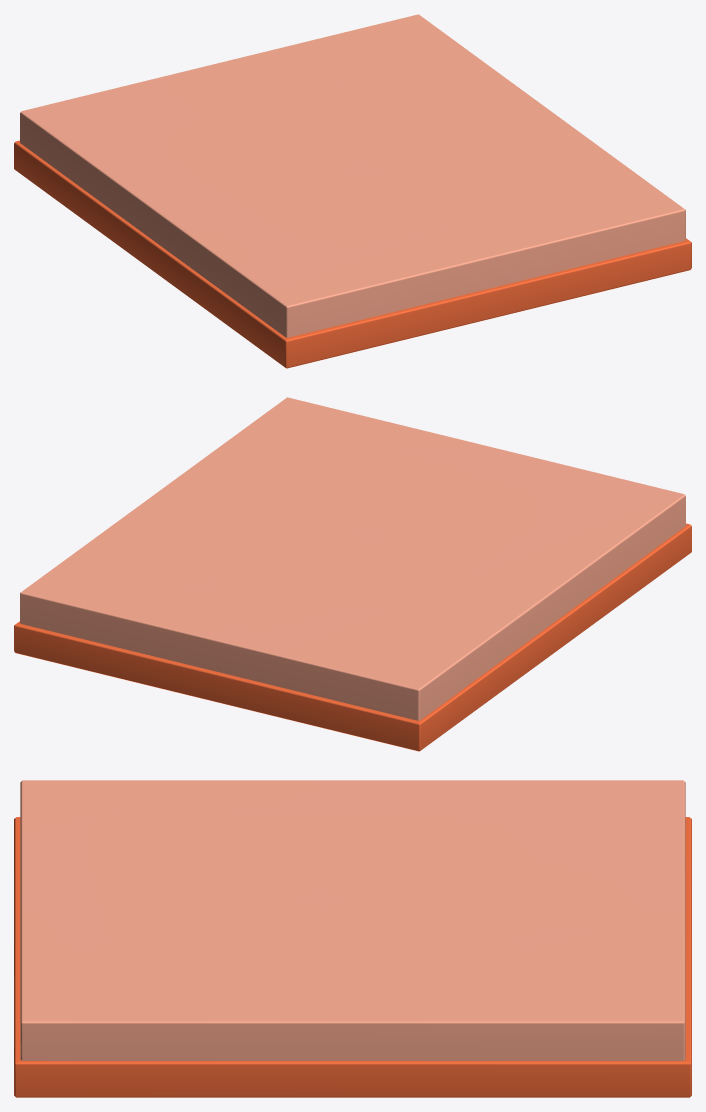
File: Store_5_Base_1.glb
3 renders of one model, top to bottom at view 1: azimuth 30°, elevation 25°; view 2: azimuth 150°, elevation 25°; view 3: azimuth 270°, elevation 25°, orthographic. The views are drawn at different scales.
Visible parts, largest first — view 1: Store_5_Base_1; view 2: Store_5_Base_1; view 3: Store_5_Base_1.
Part boxes in pixels (box(x1,y1,x2,y2)): Store_5_Base_1: box(14, 14, 691, 368); Store_5_Base_1: box(14, 397, 691, 751); Store_5_Base_1: box(14, 780, 691, 1097).
Bounding box in the file's own units: 11.45 × 1.62 × 13.29.
1 material, 1 textured.
